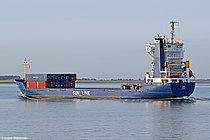Ship: (13, 30, 199, 102)
